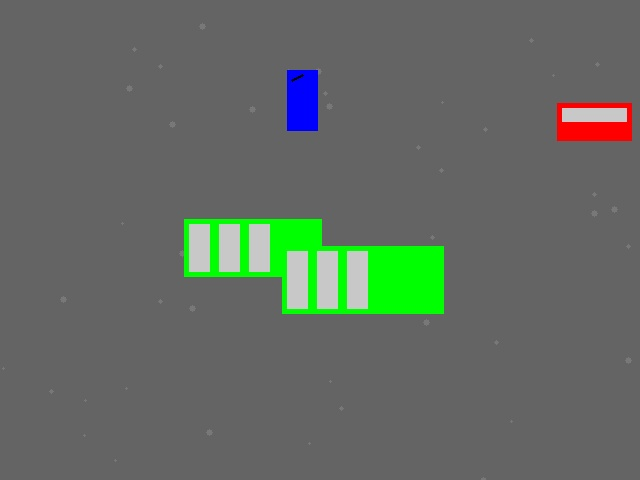bus: (282, 246, 443, 313), (184, 219, 321, 276)
car: (557, 103, 631, 140)
motorcycle: (287, 70, 317, 130)
